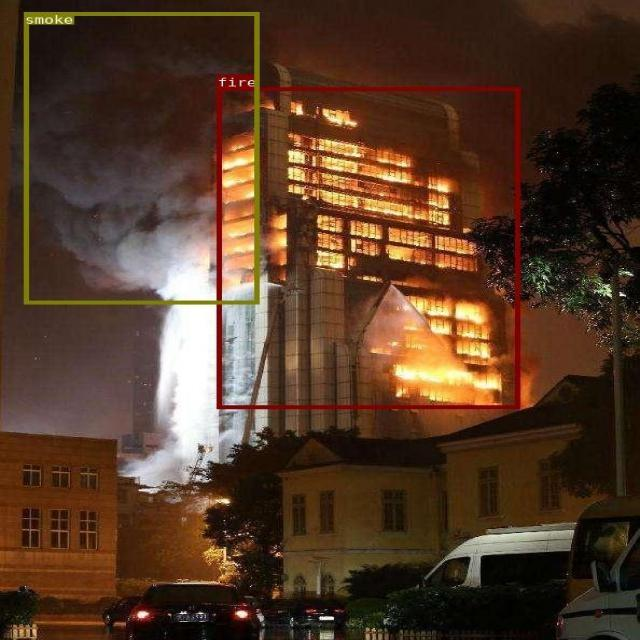fire: (215, 87, 519, 409)
smoke: (24, 12, 258, 303)
